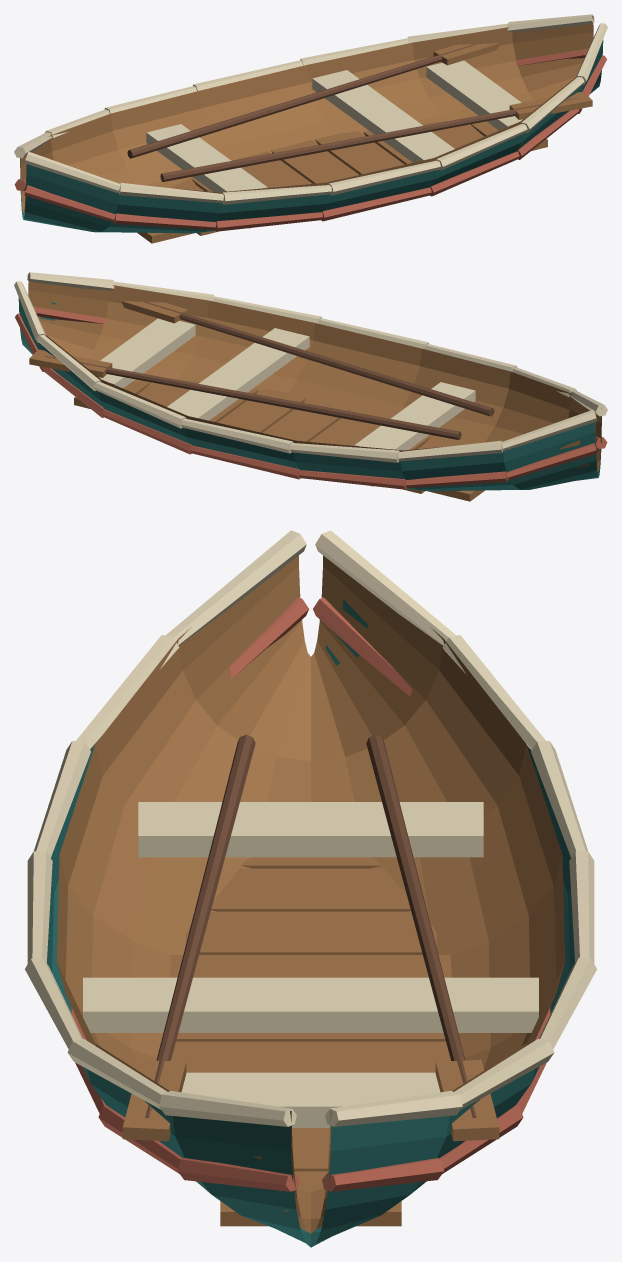
File: SM_Rowboat.glb
3 renders of one model, top to bottom at view 1: azimuth 30°, elevation 25°; view 2: azimuth 150°, elevation 25°; view 3: azimuth 270°, elevation 25°, orthographic. The views are drawn at different scales.
Visible parts, largest first — view 1: SM_Rowboat; view 2: SM_Rowboat; view 3: SM_Rowboat.
Boxes of the visible parts, x1,y1,x2,y2 form: SM_Rowboat: (14, 14, 607, 243); SM_Rowboat: (14, 272, 607, 501); SM_Rowboat: (25, 530, 596, 1247).
Bounding box in the file's own units: 4.59 × 0.861 × 1.96.
